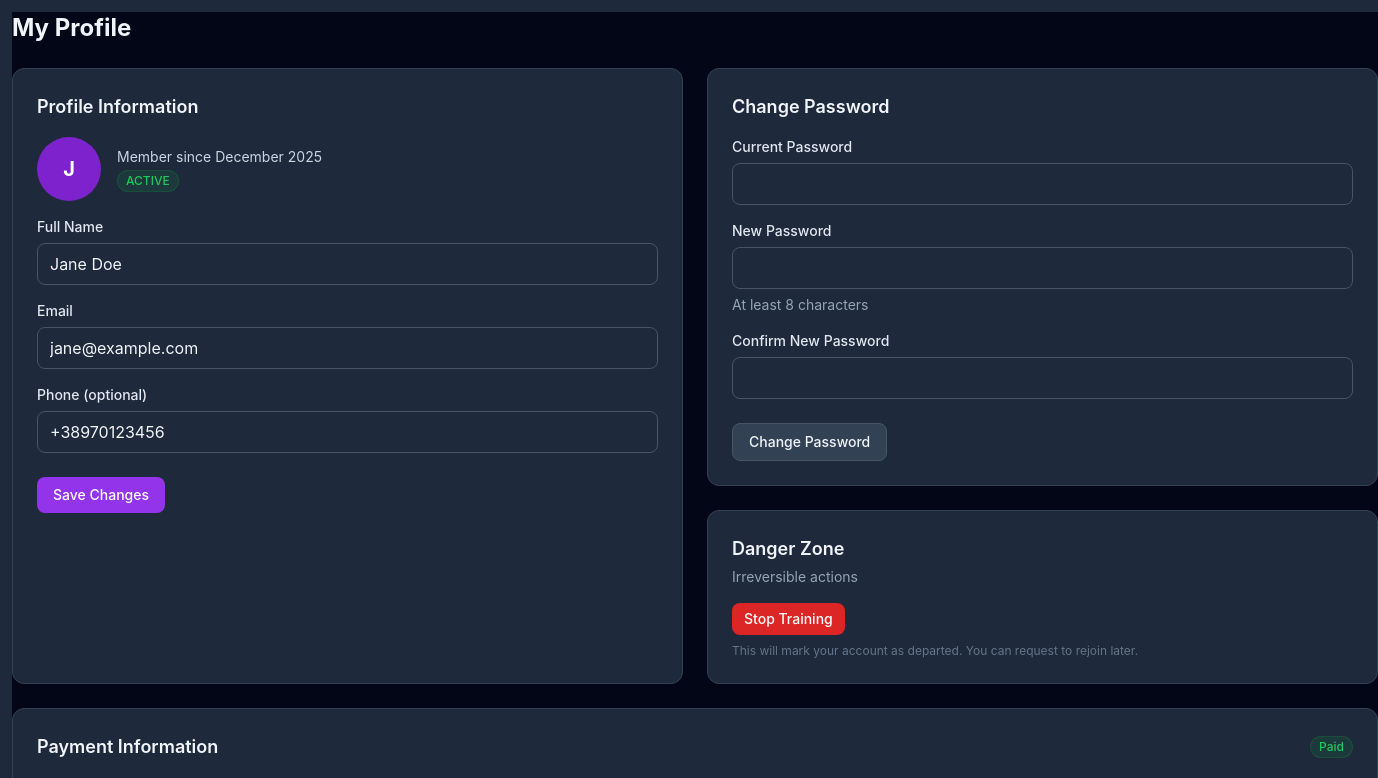
Scenario: ProfileClient › profile form interactions › shows validation error for empty email
Note: Clear email
Clear the field labelled "Email" at [348, 348], box x1=37 y1=327 x2=658 y2=369
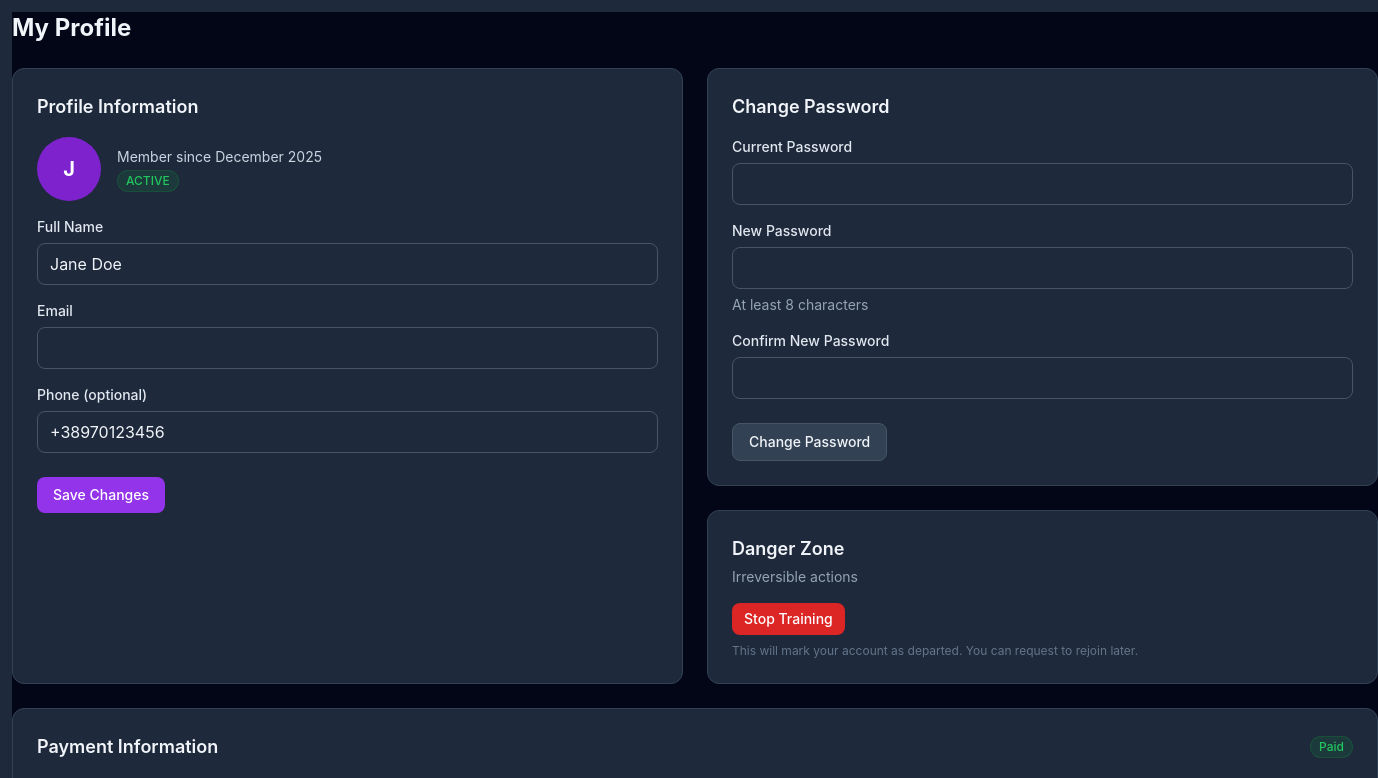
Click the button "Save Changes" at [101, 495], box x1=37 y1=477 x2=165 y2=513
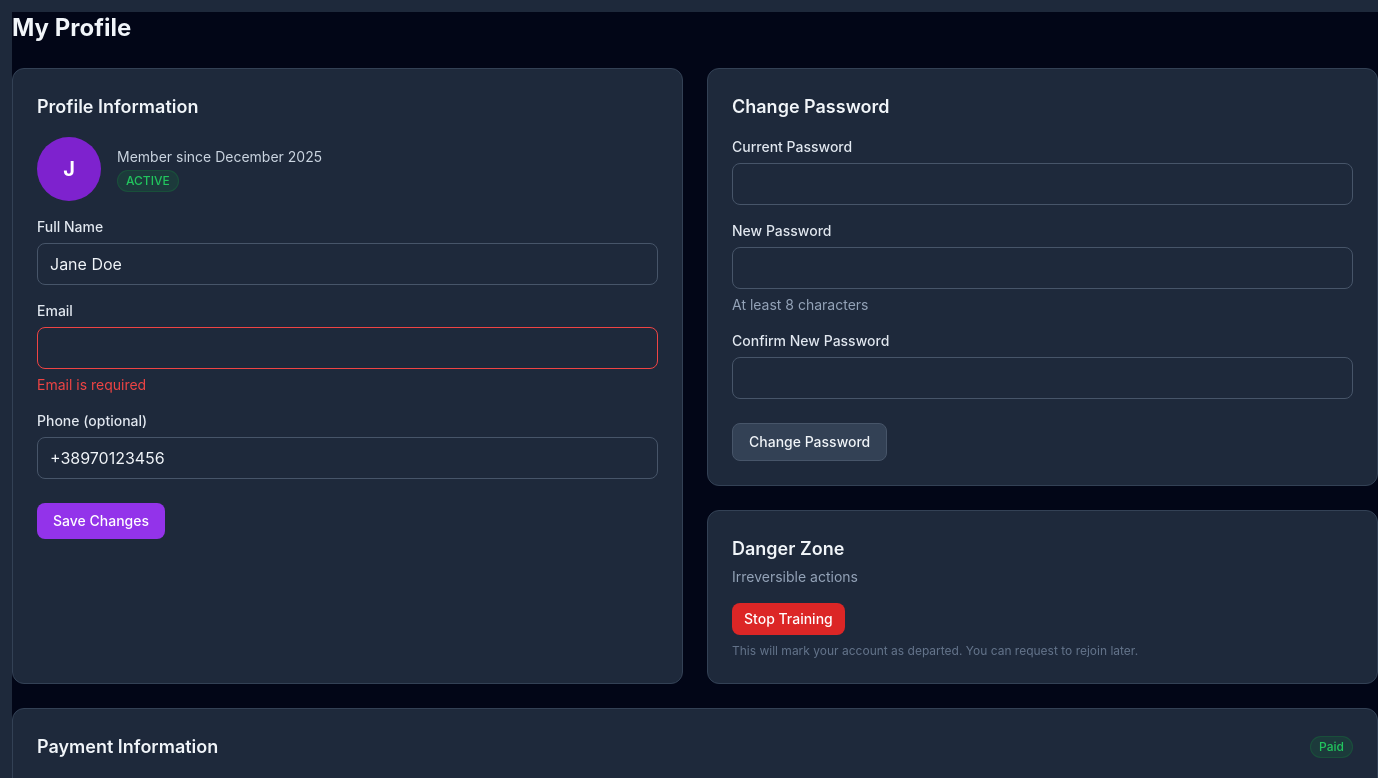
Now the text "Email is required" is shown, box x1=37 y1=376 x2=146 y2=393
